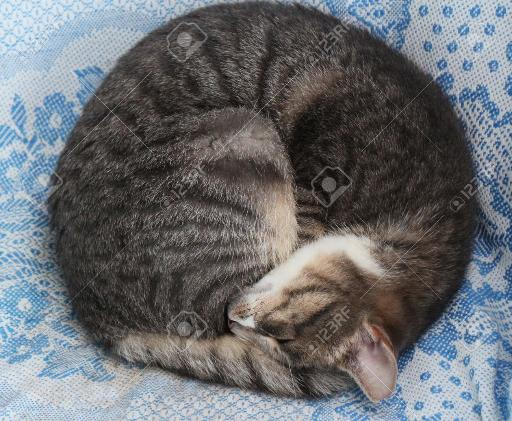cat_sleeping: (48, 1, 477, 401)
